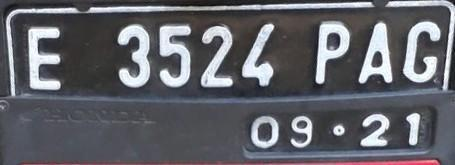2: (194, 21, 242, 91)
3: (106, 22, 153, 90)
4: (236, 21, 287, 89)
5: (150, 20, 198, 89)
A: (354, 18, 402, 86)
E: (18, 29, 78, 92)
G: (398, 19, 448, 84)
P: (303, 17, 356, 89)
